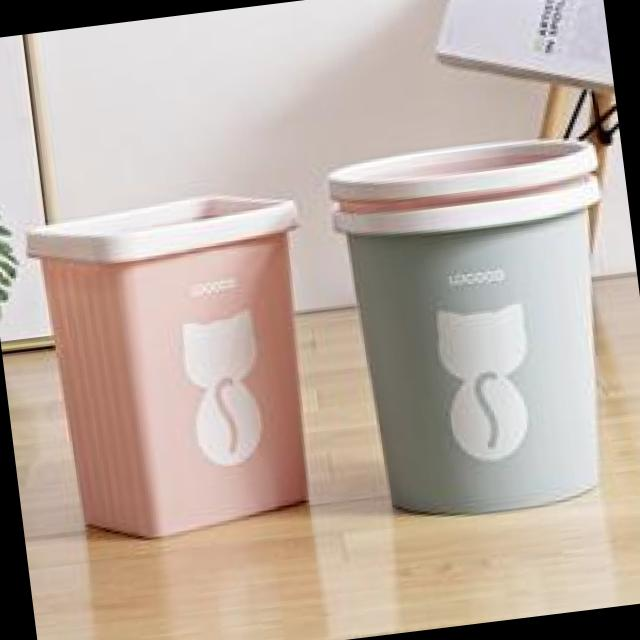dustbin: (16, 178, 343, 556), (326, 166, 640, 540)
